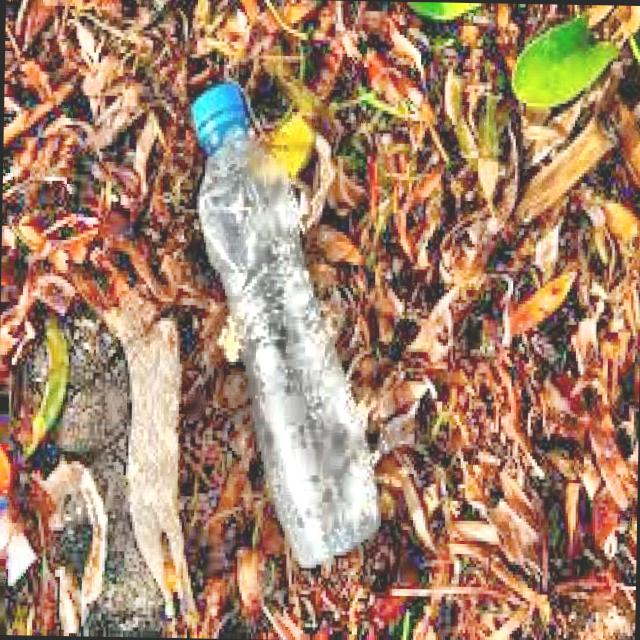plastic bottle: (190, 82, 378, 566)
